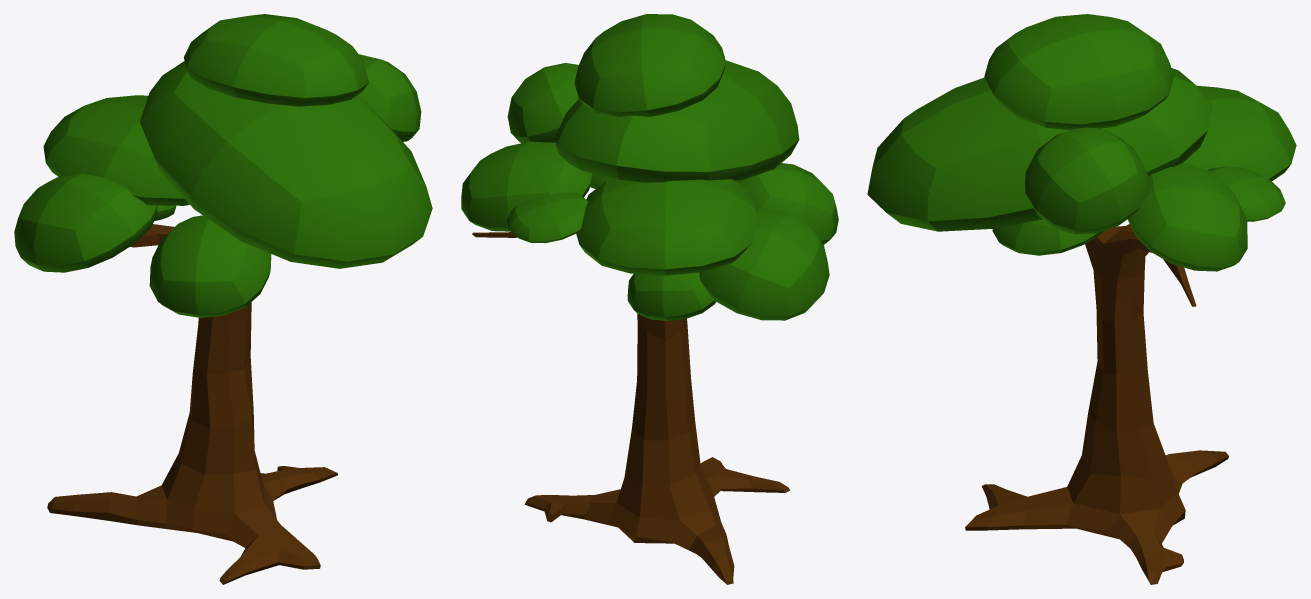
Rendered from Oak.fbx.
The picture shows the model from 3 angles, left to right: view 1: azimuth 30°, elevation 25°; view 2: azimuth 150°, elevation 25°; view 3: azimuth 270°, elevation 25°; orthographic projection. The views are drawn at different scales.
Parts seen in each view (by area): view 1: Oak; view 2: Oak; view 3: Oak.
Boxes of the visible parts, <box> form: Oak: <box>14,14,432,584</box>; Oak: <box>461,14,838,584</box>; Oak: <box>867,14,1296,584</box>.
Bounding box in the file's own units: 4741 × 6440 × 4921.
